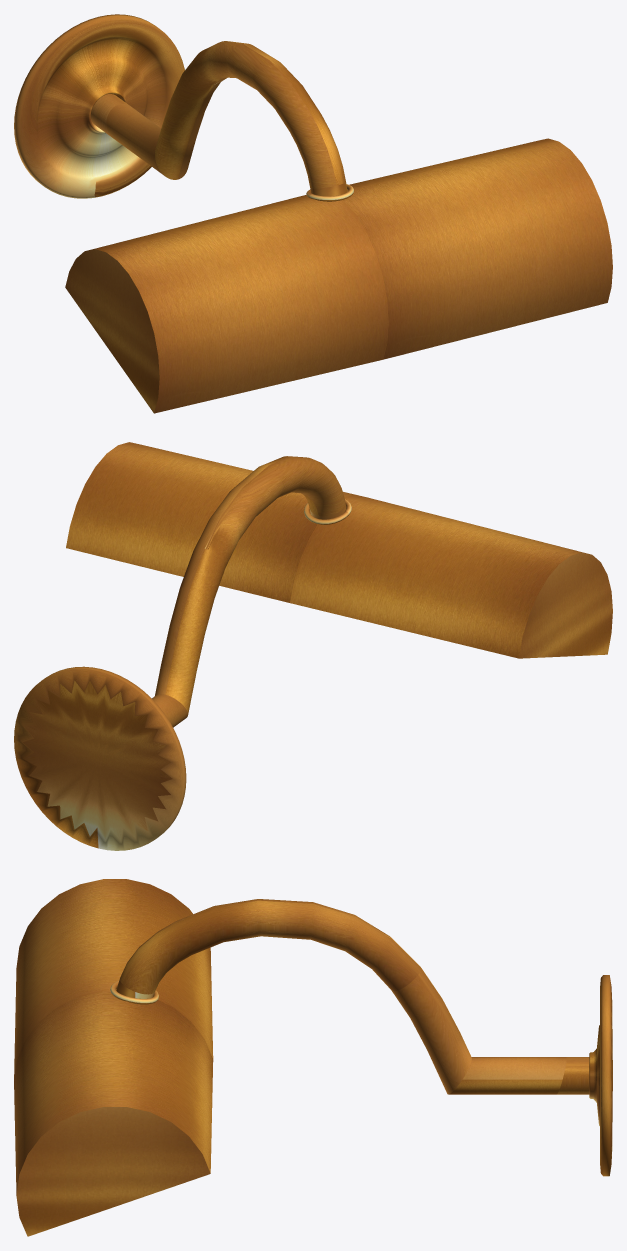
The model's file is LightFixture.FBX.
3 renders of one model, top to bottom at view 1: azimuth 30°, elevation 25°; view 2: azimuth 150°, elevation 25°; view 3: azimuth 270°, elevation 25°, orthographic. The views are drawn at different scales.
Parts seen in each view (by area): view 1: LampShade, LightFixture; view 2: LampShade, LightFixture; view 3: LampShade, LightFixture.
Part boxes in pixels (bbox=[...]): LampShade: bbox=[65, 138, 612, 413]; LightFixture: bbox=[14, 14, 353, 201]; LampShade: bbox=[66, 442, 612, 658]; LightFixture: bbox=[14, 456, 351, 850]; LampShade: bbox=[14, 879, 213, 1236]; LightFixture: bbox=[110, 899, 612, 1176].
Bounding box in the file's own units: 45.77 × 24.93 × 50.79.
Materials: 2 (1 with a texture image).
